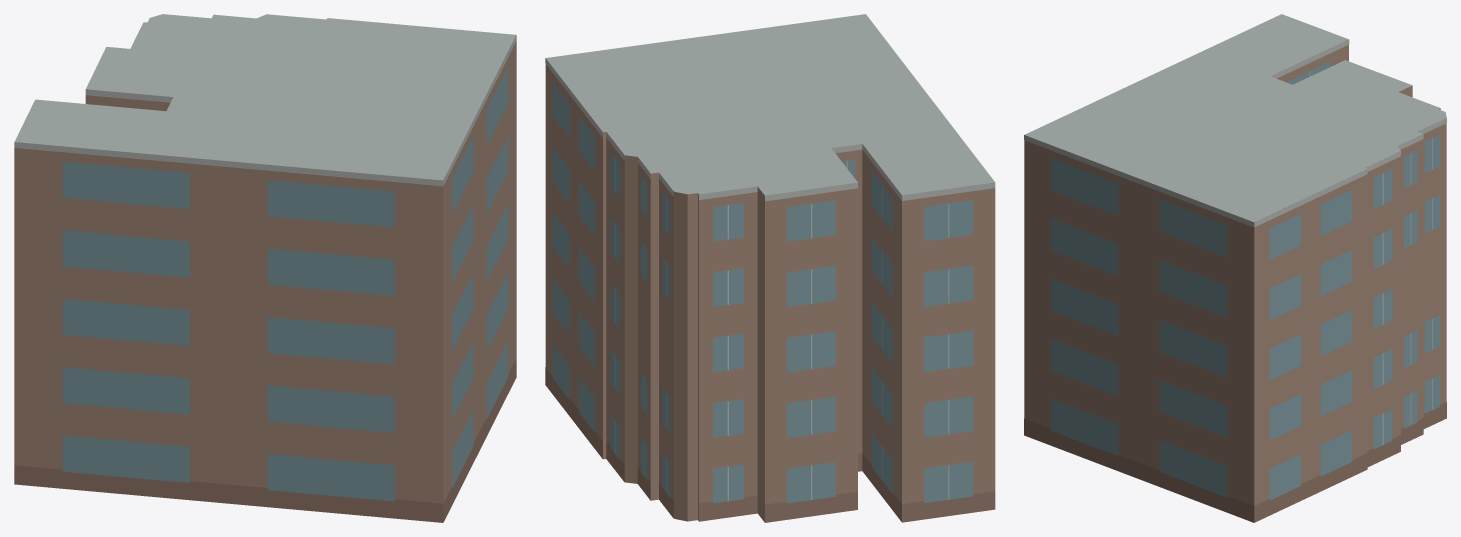
File: survey-upis-33017902.glb
3 views of the same model, side by side, from view 1: azimuth 30°, elevation 25°; view 2: azimuth 150°, elevation 25°; view 3: azimuth 270°, elevation 25° (orthographic). The views are drawn at different scales.
Parts seen in each view (by area): view 1: survey-upis-33017902.tmp; view 2: survey-upis-33017902.tmp; view 3: survey-upis-33017902.tmp.
Boxes of the visible parts, bbox=[...] form: survey-upis-33017902.tmp: bbox=[14, 14, 516, 522]; survey-upis-33017902.tmp: bbox=[545, 14, 995, 522]; survey-upis-33017902.tmp: bbox=[1024, 14, 1446, 522].
Bounding box in the file's own units: 20.97 × 14.1 × 17.97.
